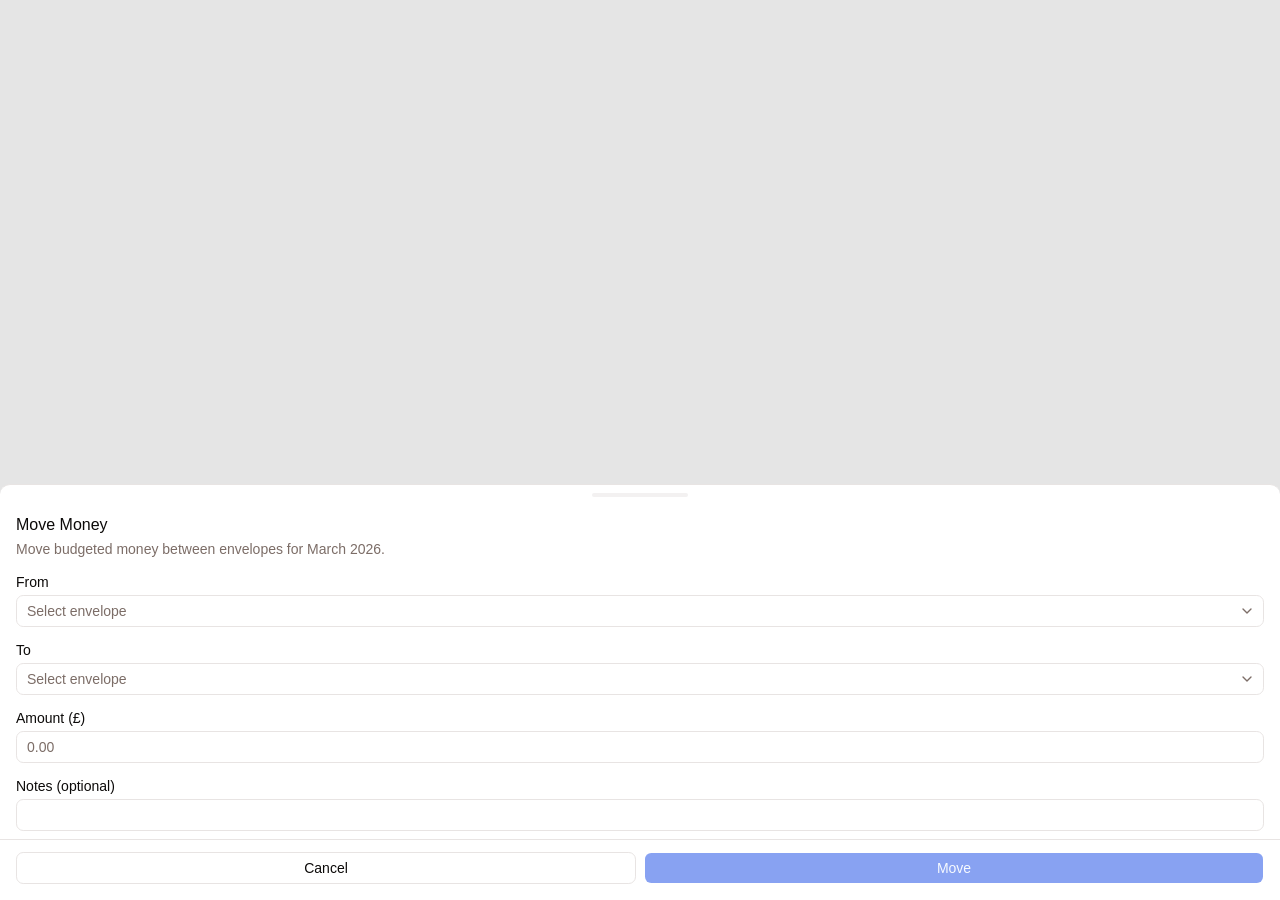
Test: MoveMoneyDialog › keeps the drawer and values with an inline error on failure
Click the dropdown named "From" at x=77, y=611, box [16,595,1264,627]
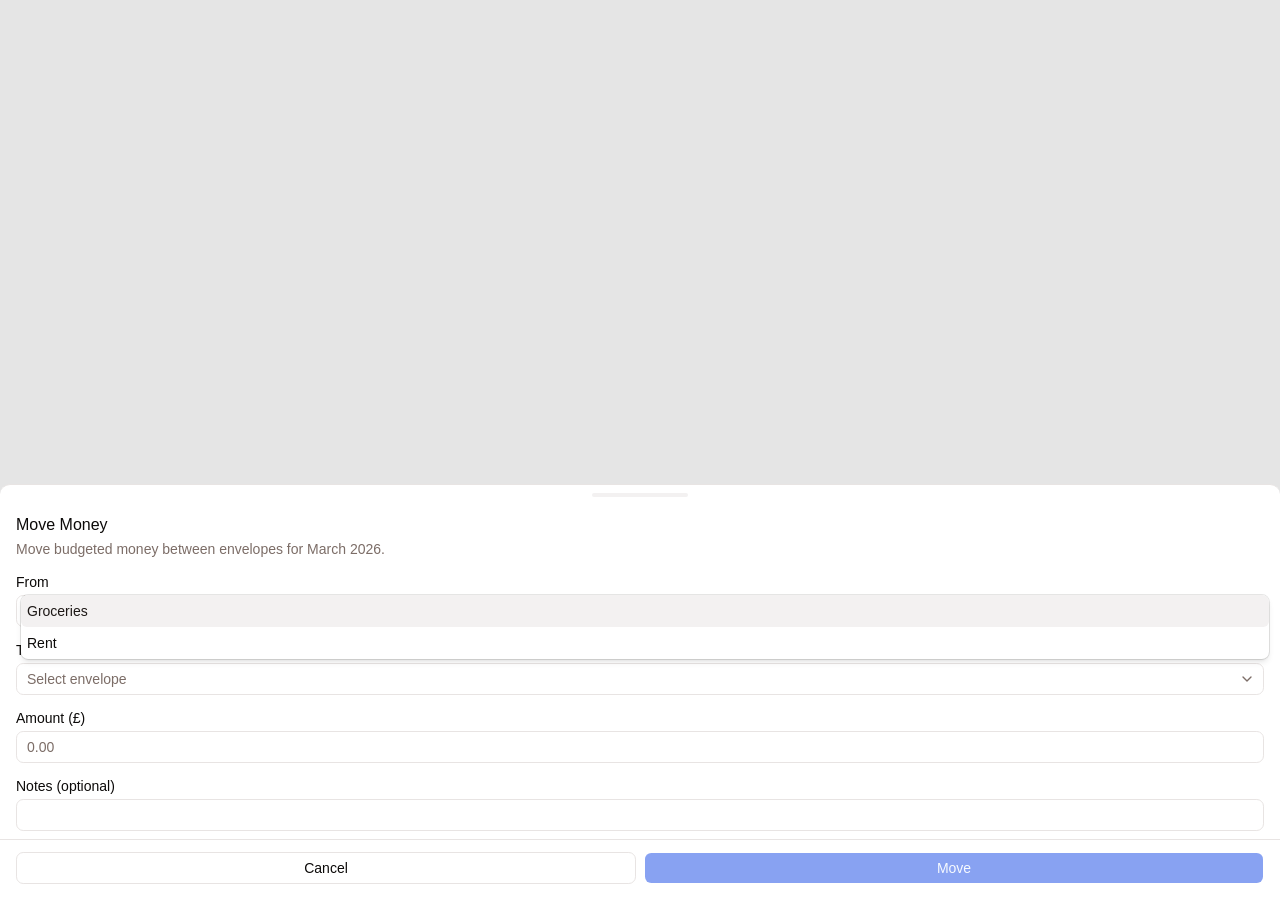
Click the option "Groceries" at x=57, y=611, box [21,595,1269,627]
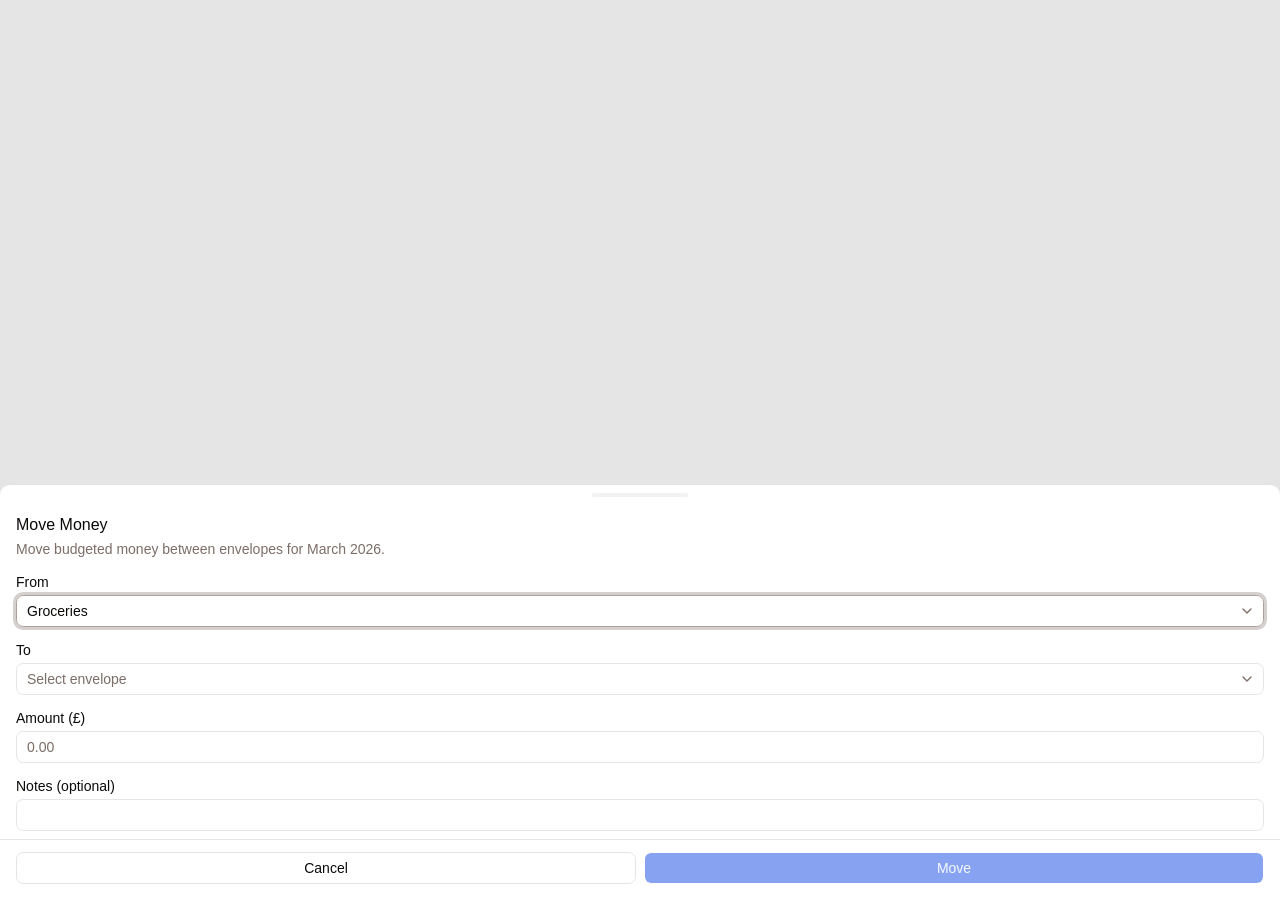
Click the dropdown named "To" at x=77, y=679, box [16,663,1264,695]
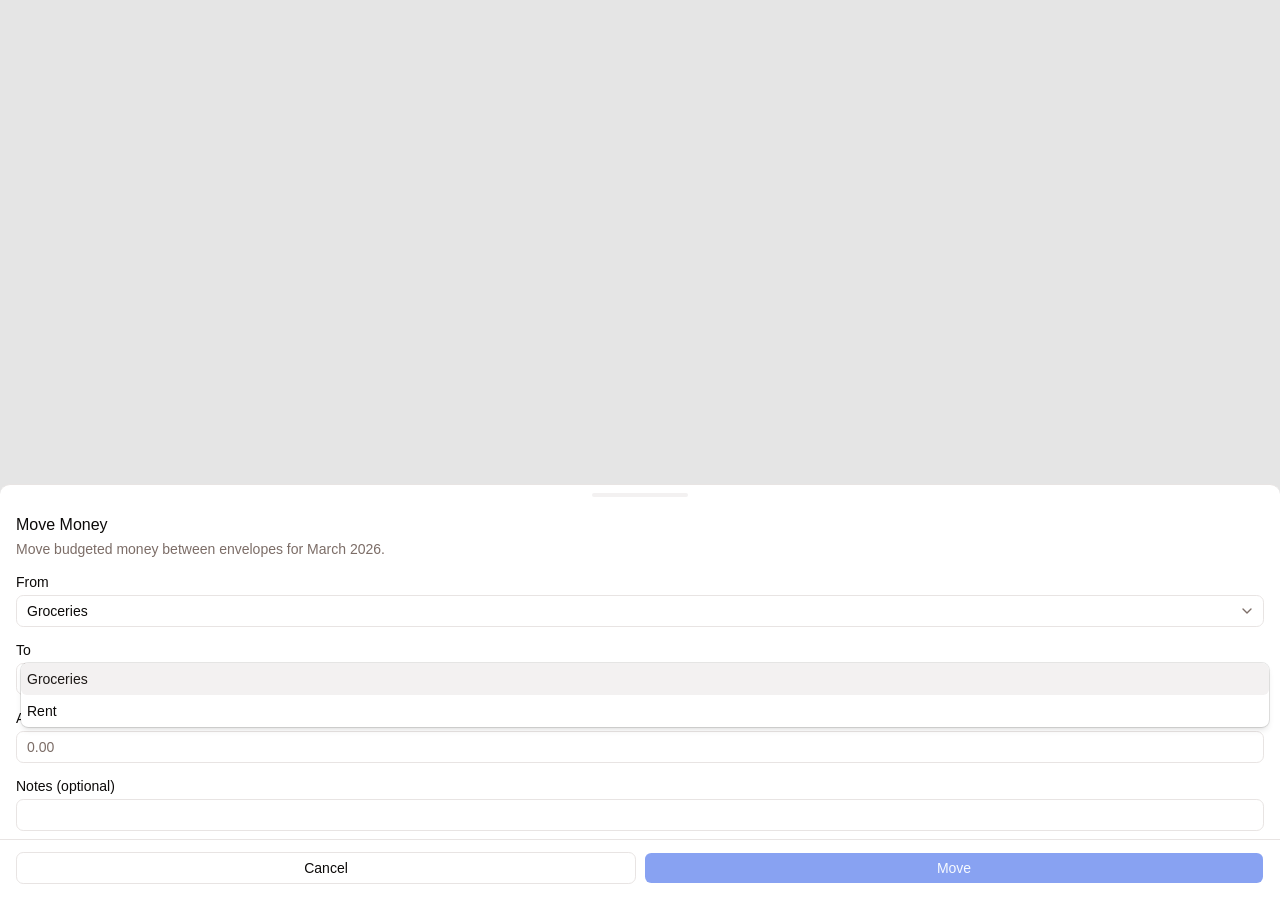
Click the option "Rent" at x=42, y=711, box [27,703,57,719]
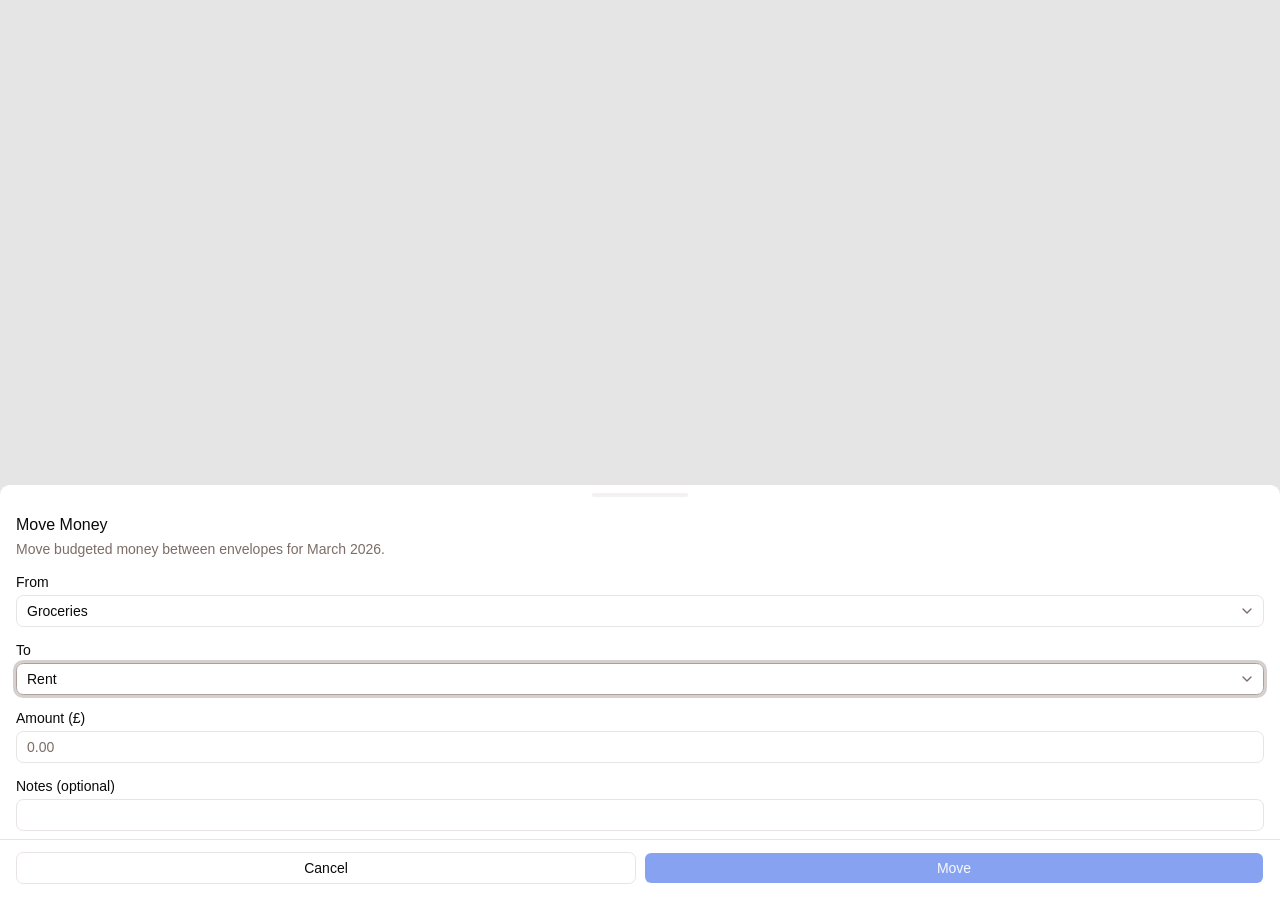
Type "5" into the number field labelled "Amount (£)" at x=640, y=747, box [16,731,1264,763]
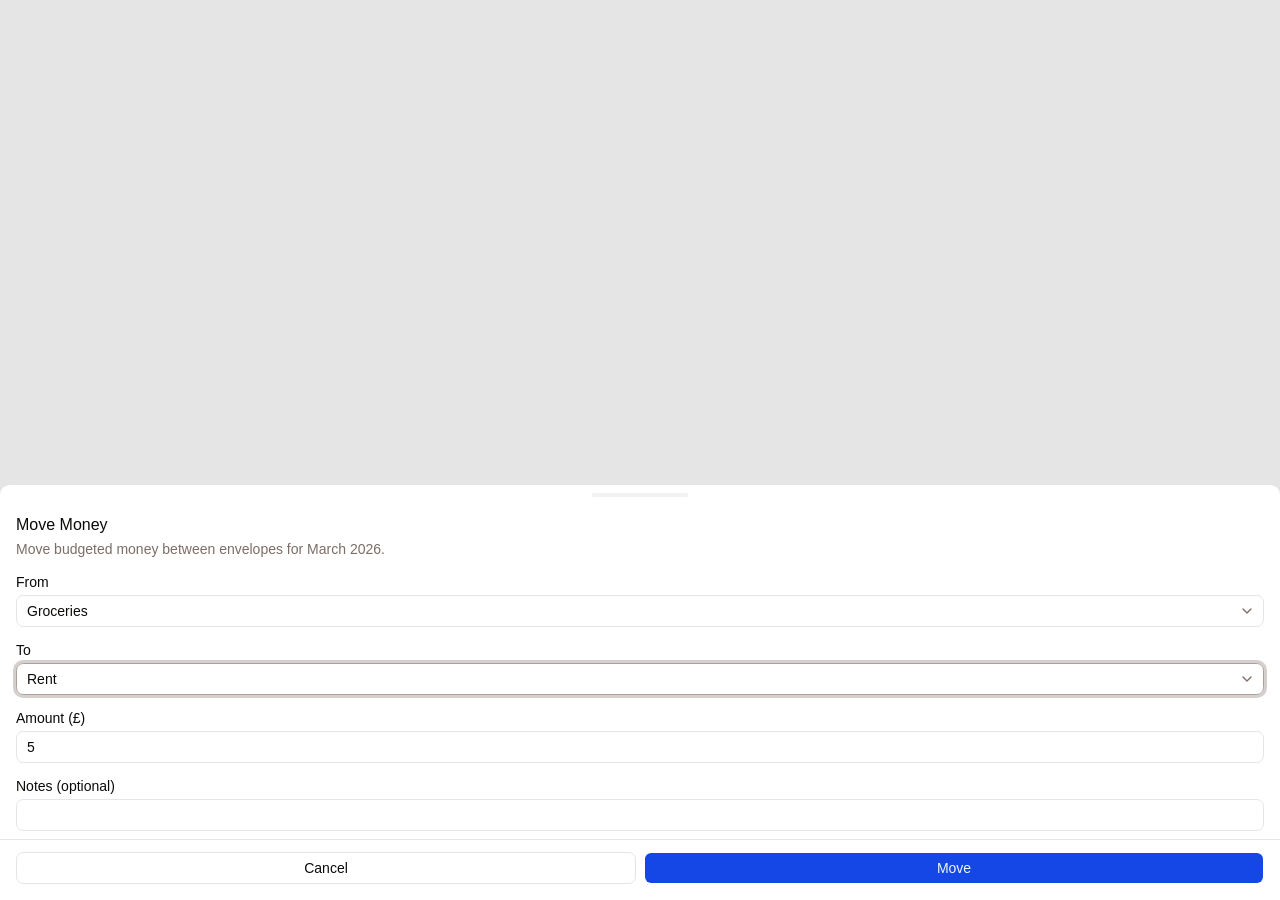
Click the button "Move" at x=954, y=868, box [644,852,1264,884]
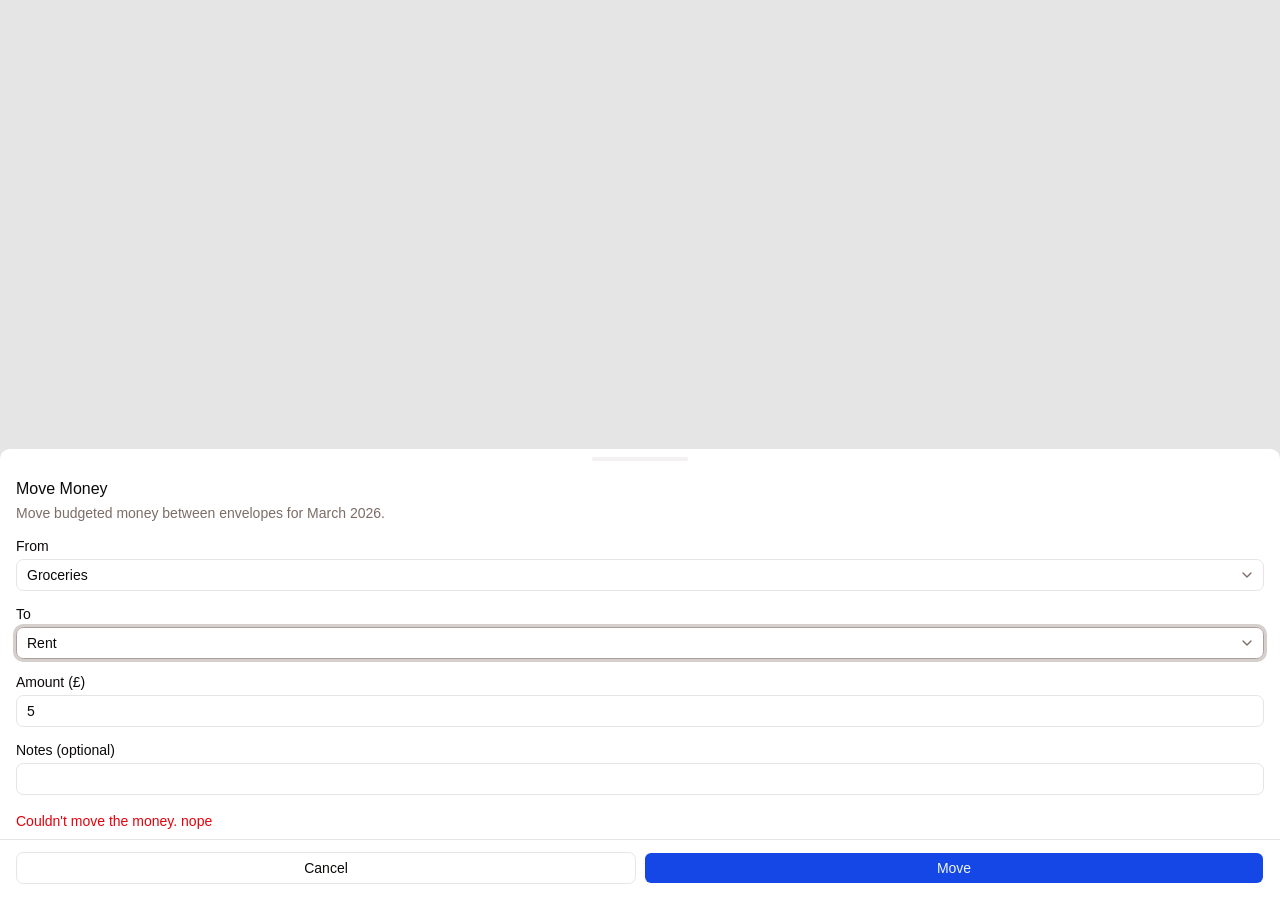
Result: the message shows "Couldn't move the money." at [16,813,212,829]
